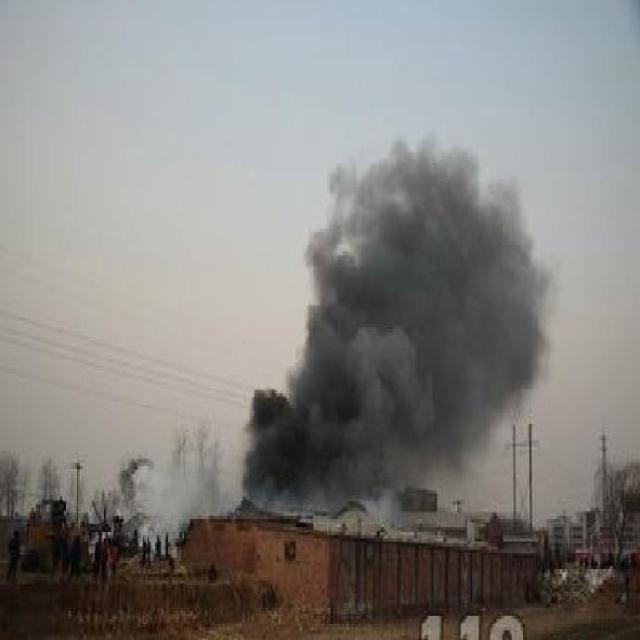Smoke: (120, 130, 560, 554)
